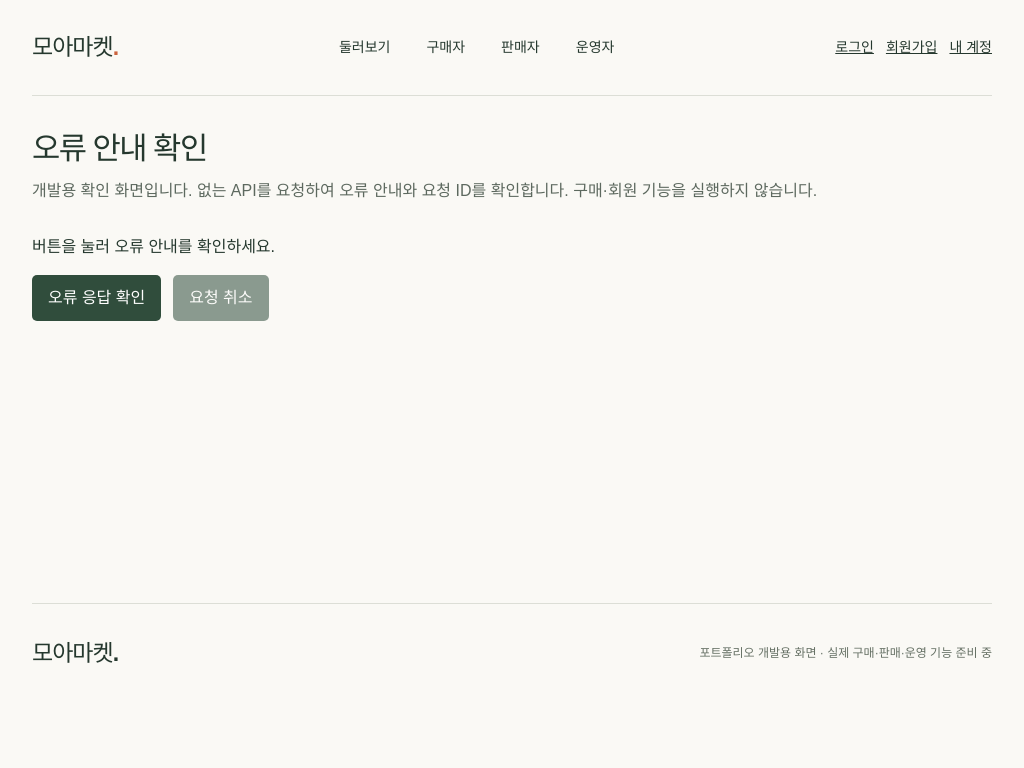
Test: 서버 임의 메시지와 잘못된 ID는 화면에 노출하지 않는다
The width and height of the screenshot is (1024, 768).
Click the button "오류 응답 확인" at point(97, 298), box [32,275,161,321]
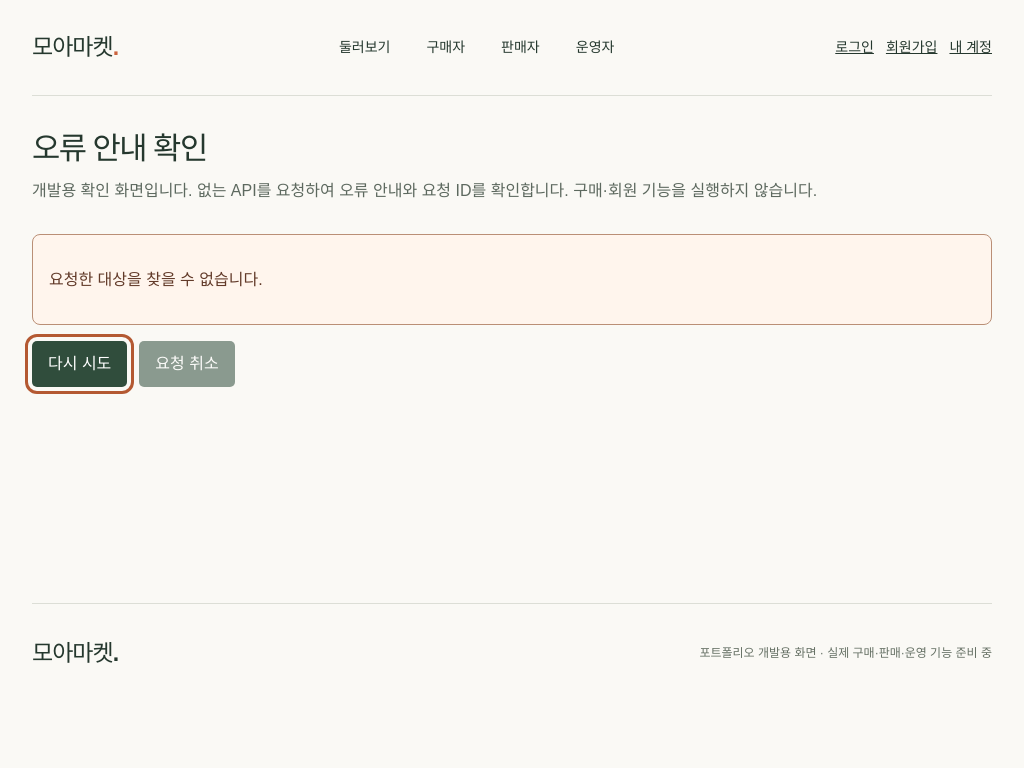
Check: the message does not show "private", box [32,234,992,325]
Check: the message reads "요청한 대상을 찾을 수 없습니다.", box [49,271,263,288]
